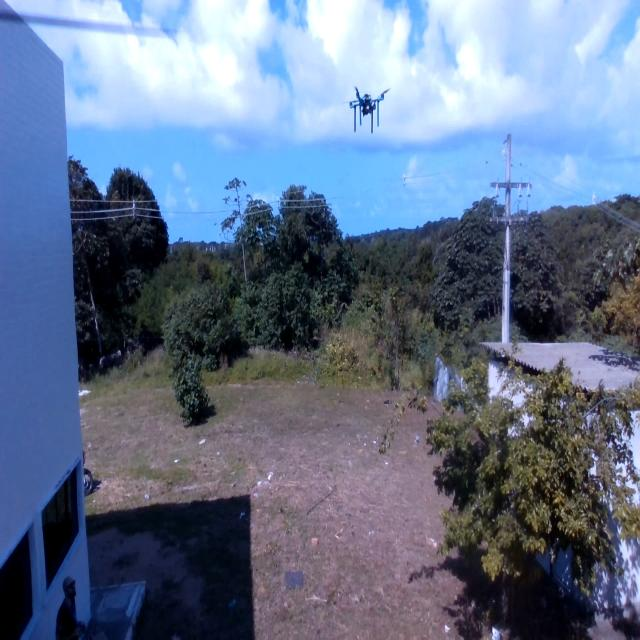-uav-: (335, 77, 394, 143)
